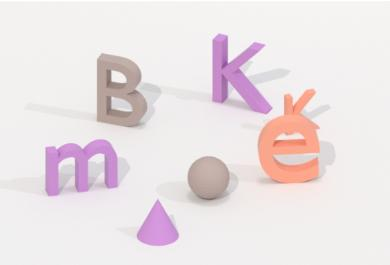0-TamGiac: (132, 195, 183, 248)
0-Tron: (183, 153, 235, 202)
B: (92, 49, 151, 131)
K: (207, 29, 275, 116)
e: (255, 112, 322, 188)
m: (41, 134, 122, 199)
